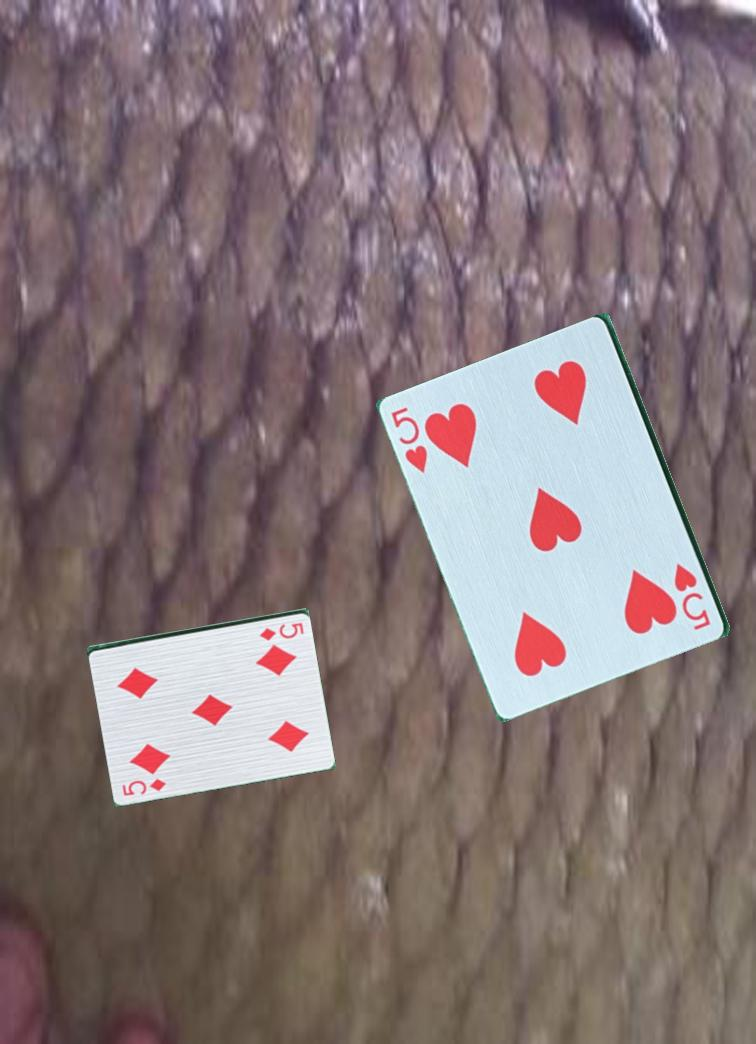5d: (119, 775, 169, 799), (256, 618, 307, 641)
5h: (388, 404, 432, 478), (671, 559, 714, 634)
